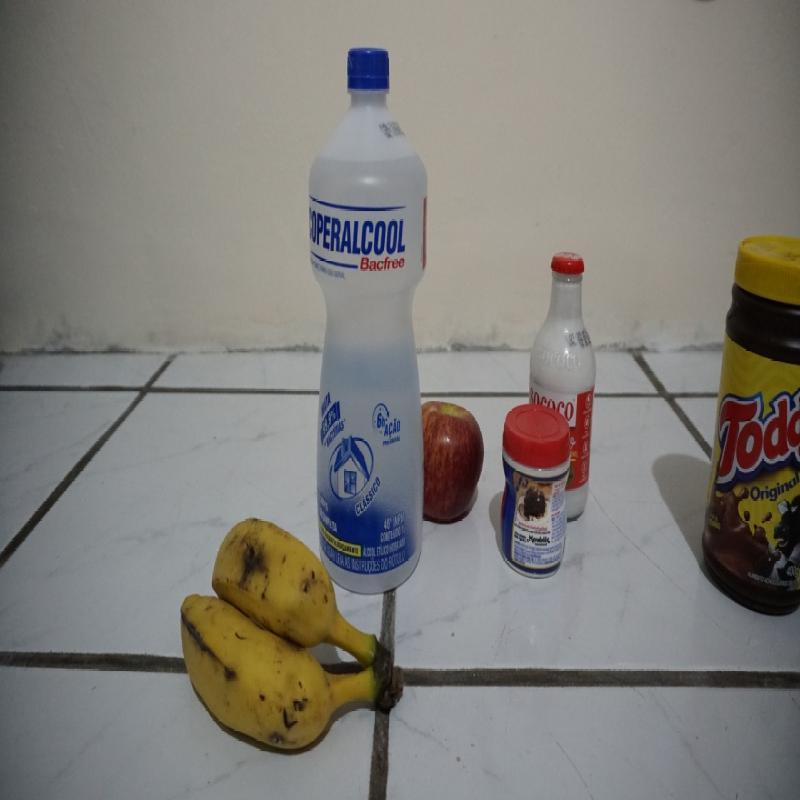Alcohol Bottle: (309, 45, 424, 513)
Apple: (425, 386, 484, 525)
Banana: (178, 518, 407, 772)
Chocolate Powder: (707, 227, 799, 610)
Coconut Milk: (529, 248, 597, 396)
Yeast: (498, 402, 568, 576)
